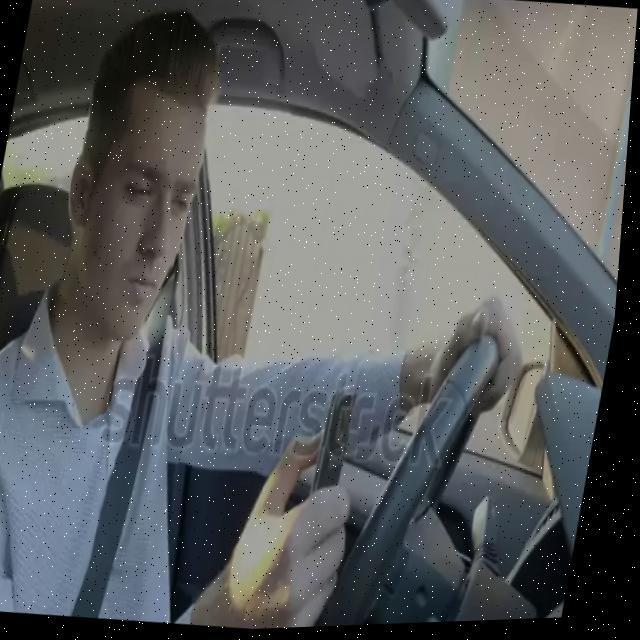PhoneCall: (313, 382, 369, 519)
